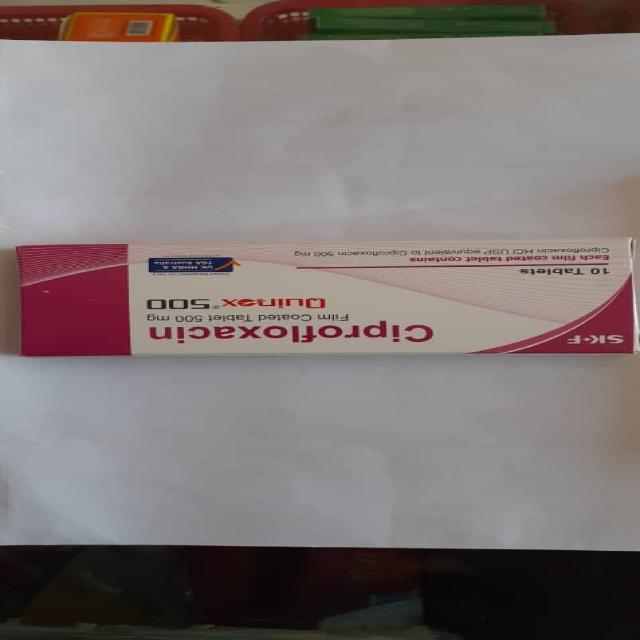drug-name: (140, 294, 327, 310)
